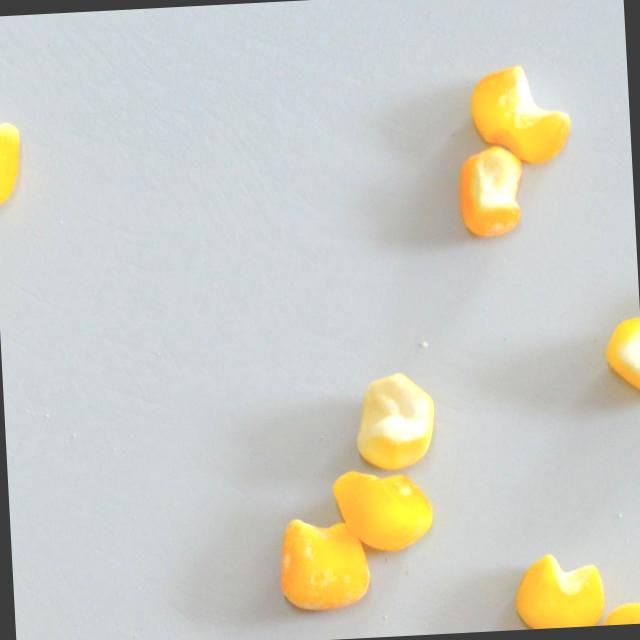no_canjicado: (467, 62, 572, 166), (330, 465, 435, 555), (352, 369, 436, 470), (511, 550, 604, 630), (0, 102, 25, 208)
pelicula: (277, 515, 372, 611), (455, 143, 525, 238), (604, 317, 640, 398), (592, 600, 640, 626)
